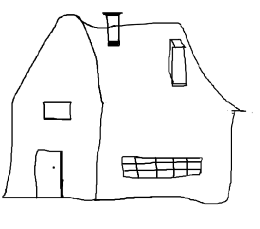chimney: (98, 6, 131, 52), (163, 38, 189, 90)
closed_window: (110, 145, 209, 188)
door: (29, 143, 77, 205)
open_window: (38, 95, 82, 126)
single_line_roof: (5, 8, 250, 98)
wall: (3, 14, 111, 209)
